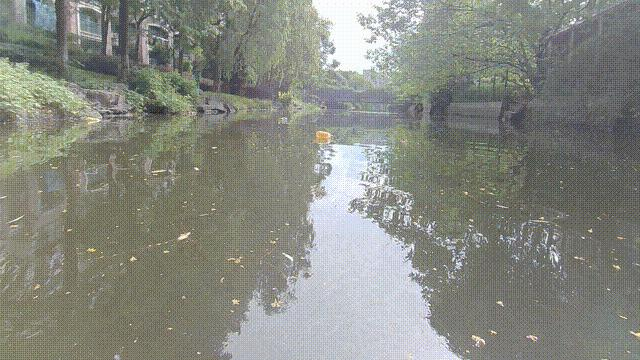Plastic: (316, 132, 333, 138), (87, 117, 101, 123), (280, 114, 288, 124), (191, 110, 197, 118)
